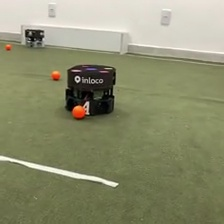ball: (70, 103, 87, 121), (50, 69, 61, 80), (4, 41, 12, 50)
goal: (19, 22, 129, 56)
robot: (63, 62, 117, 117), (23, 28, 46, 49)
